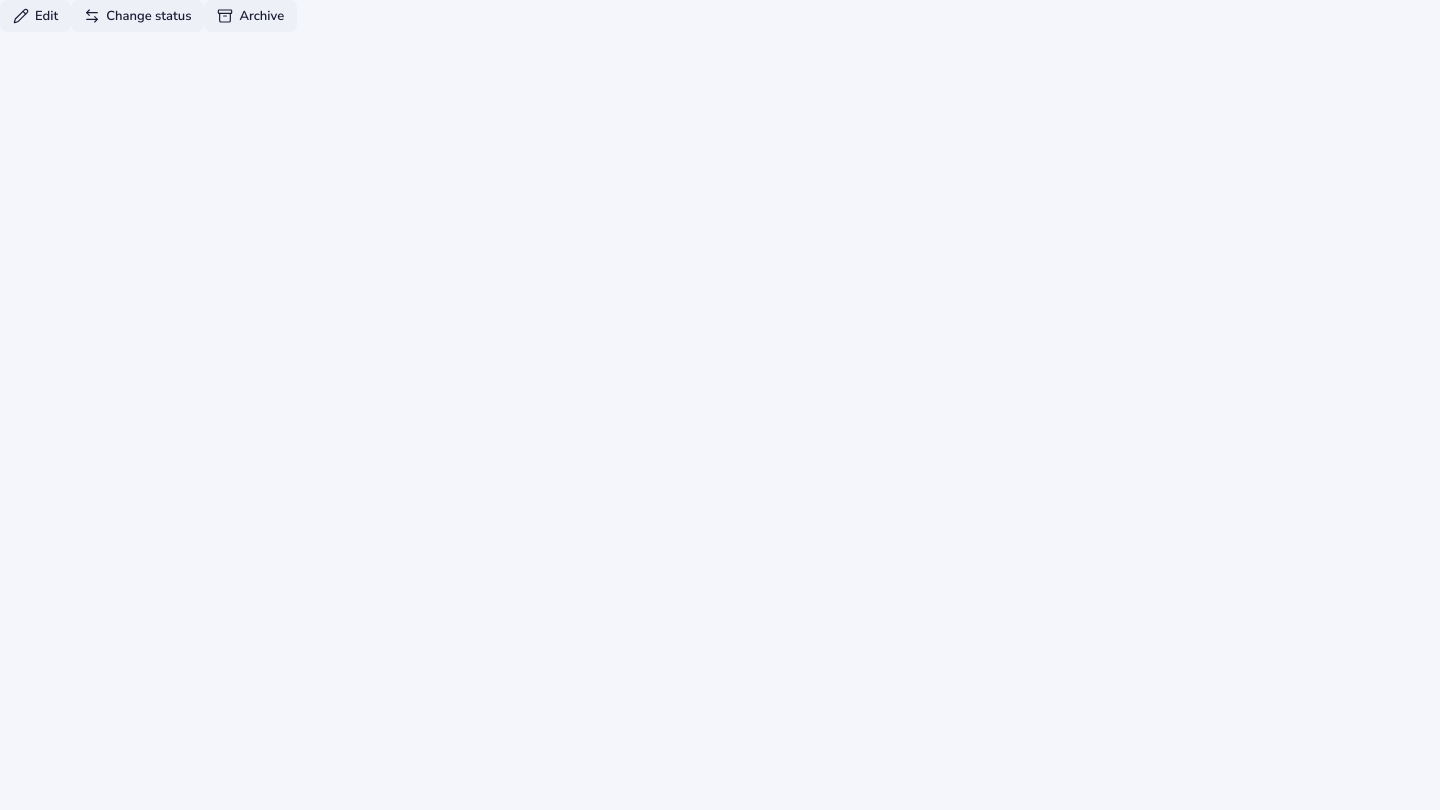
it: DriverActions › status › suspends with a reason, and refuses a suspension without one
The width and height of the screenshot is (1440, 810).
Click the button "Change status" at [138, 16], box [71,0,204,32]
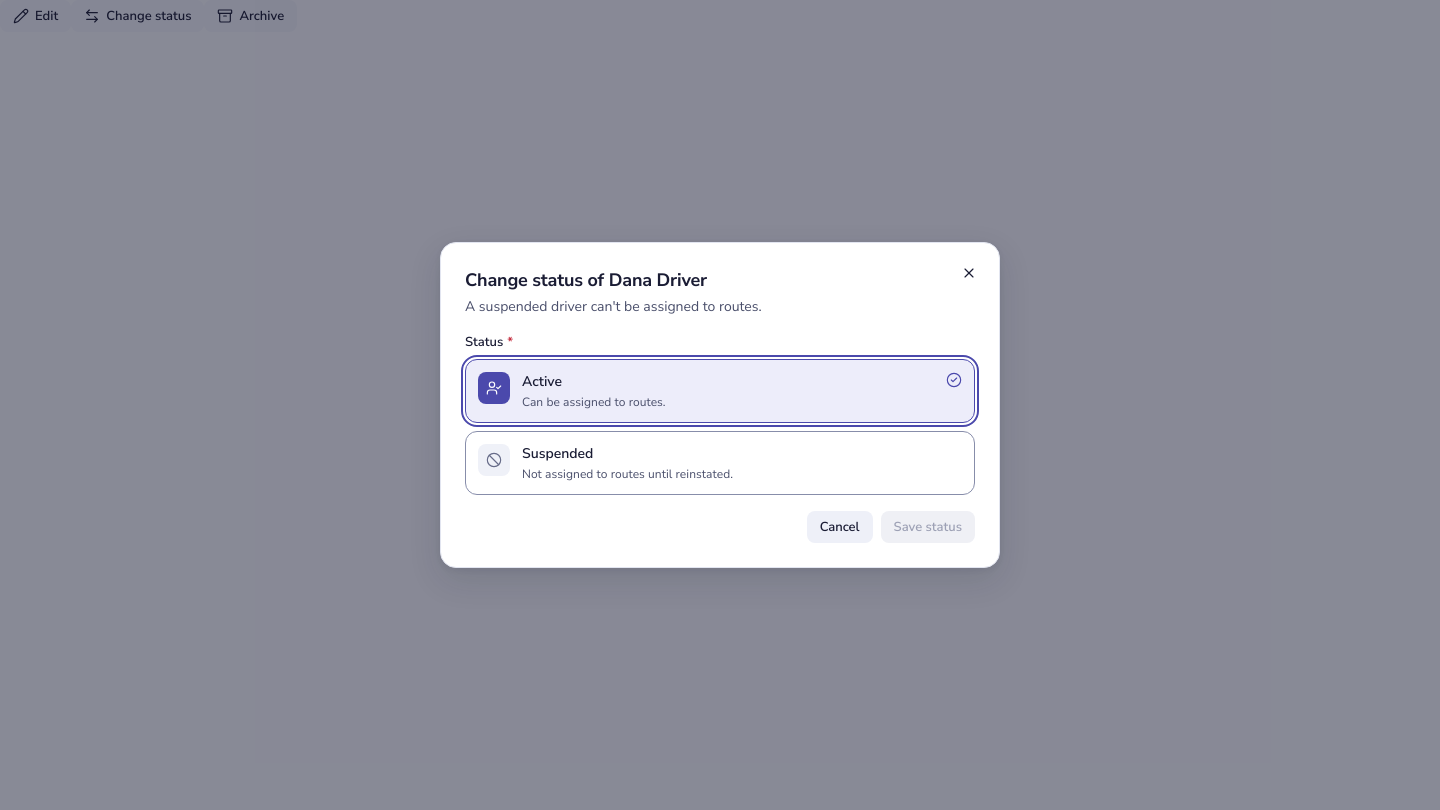
Click the radio button labelled "Suspended Not assigned to routes until reinstated." at [720, 463], box [465,431,975,495]
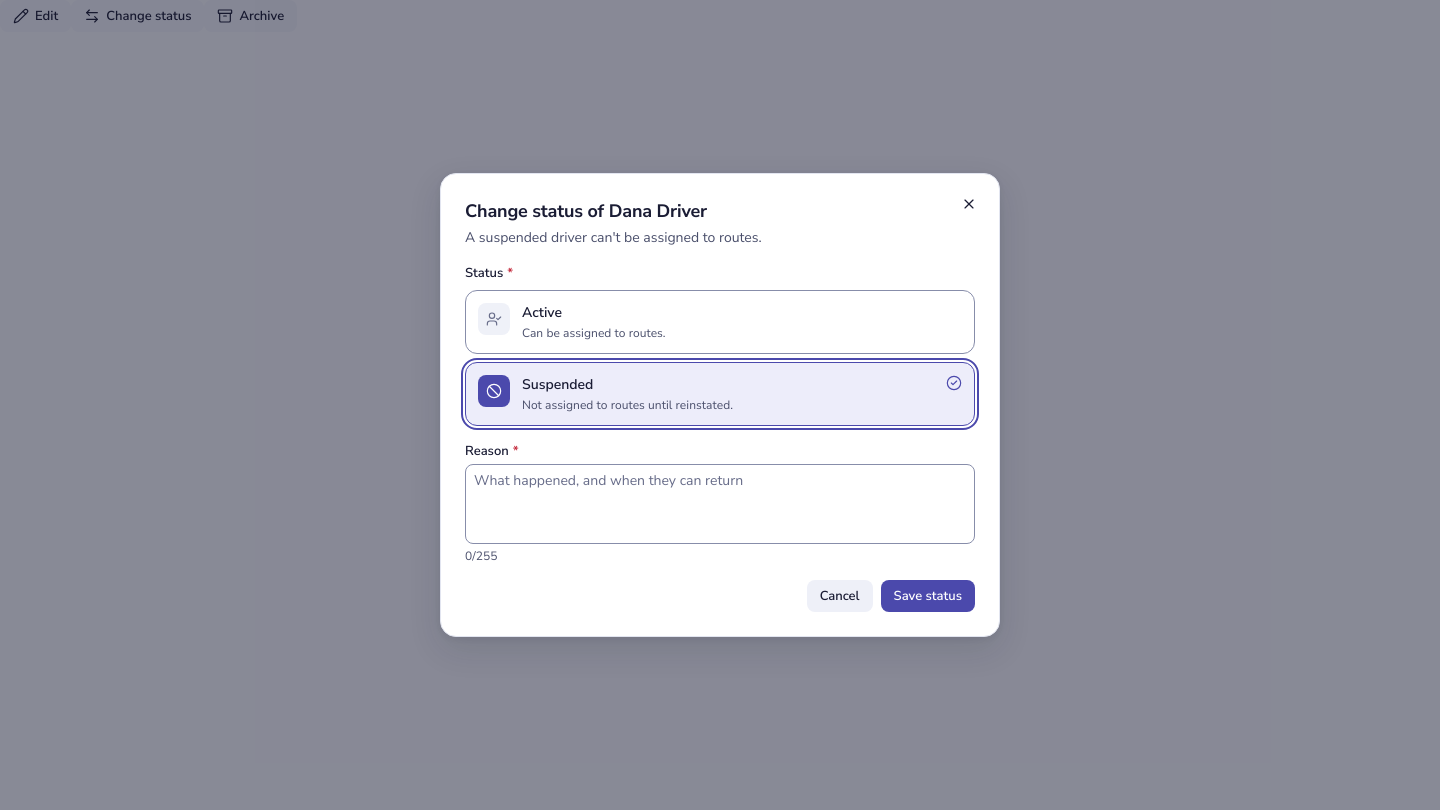
Click the button "Save status" at [928, 596], box [881,580,975,612]
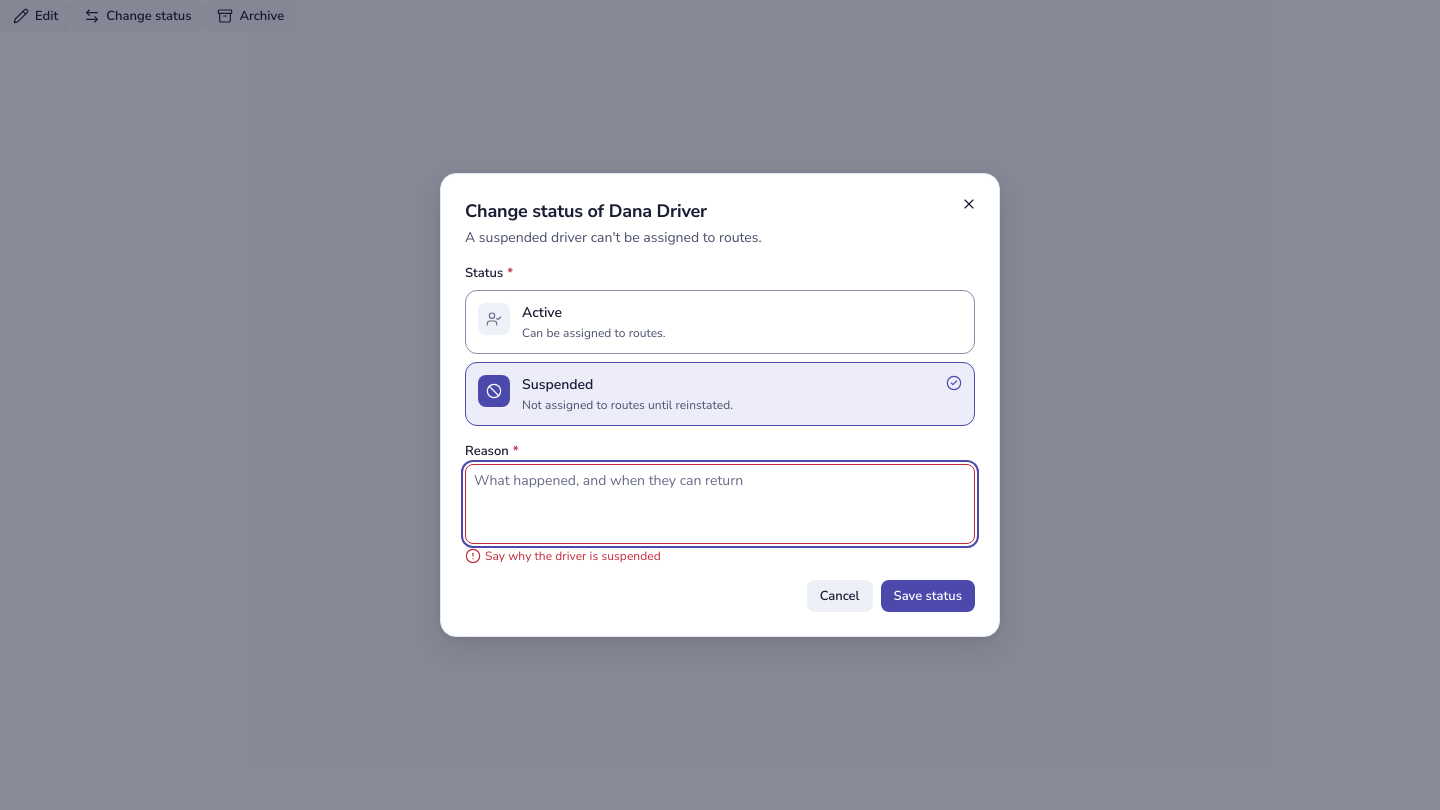
Expected: the text "Say why the driver is suspended" is shown, [465,548,661,564]
Type " Missed medical " into the text box labelled "Reason*" at [720, 504], box [465,464,975,544]
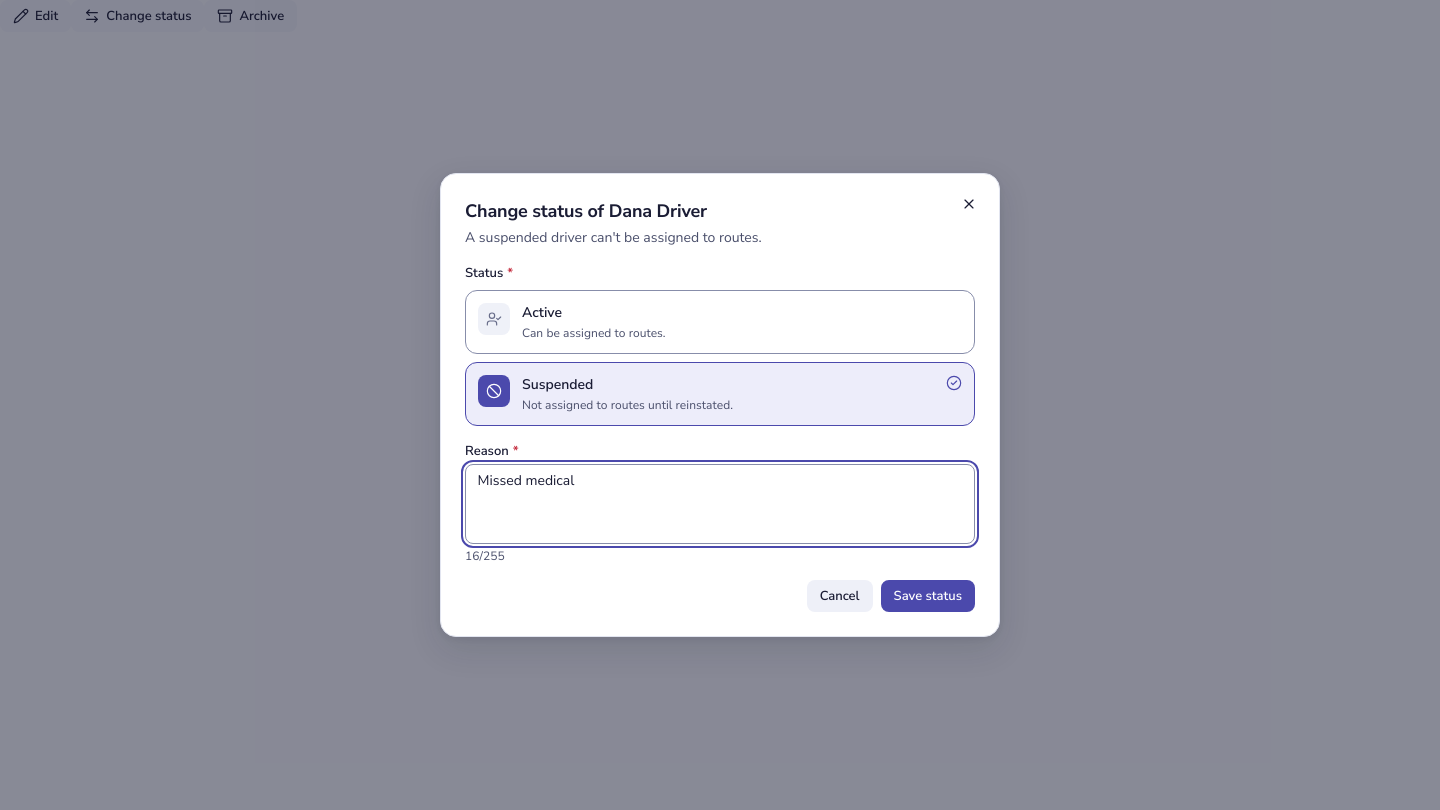
Click the button "Save status" at [928, 596], box [881,580,975,612]
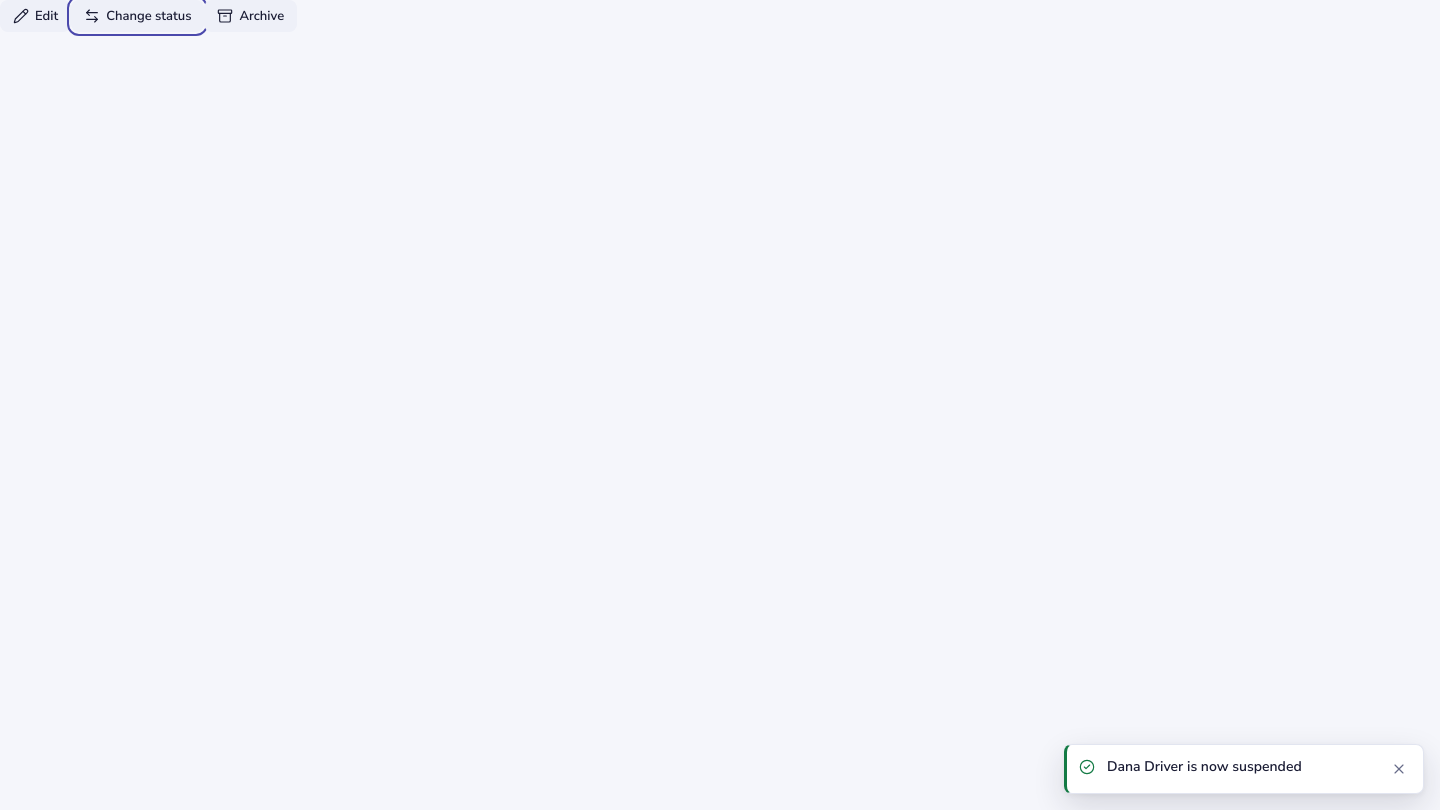
Expected: the text "Dana Driver is now suspended" is shown, [1107,757,1302,776]
